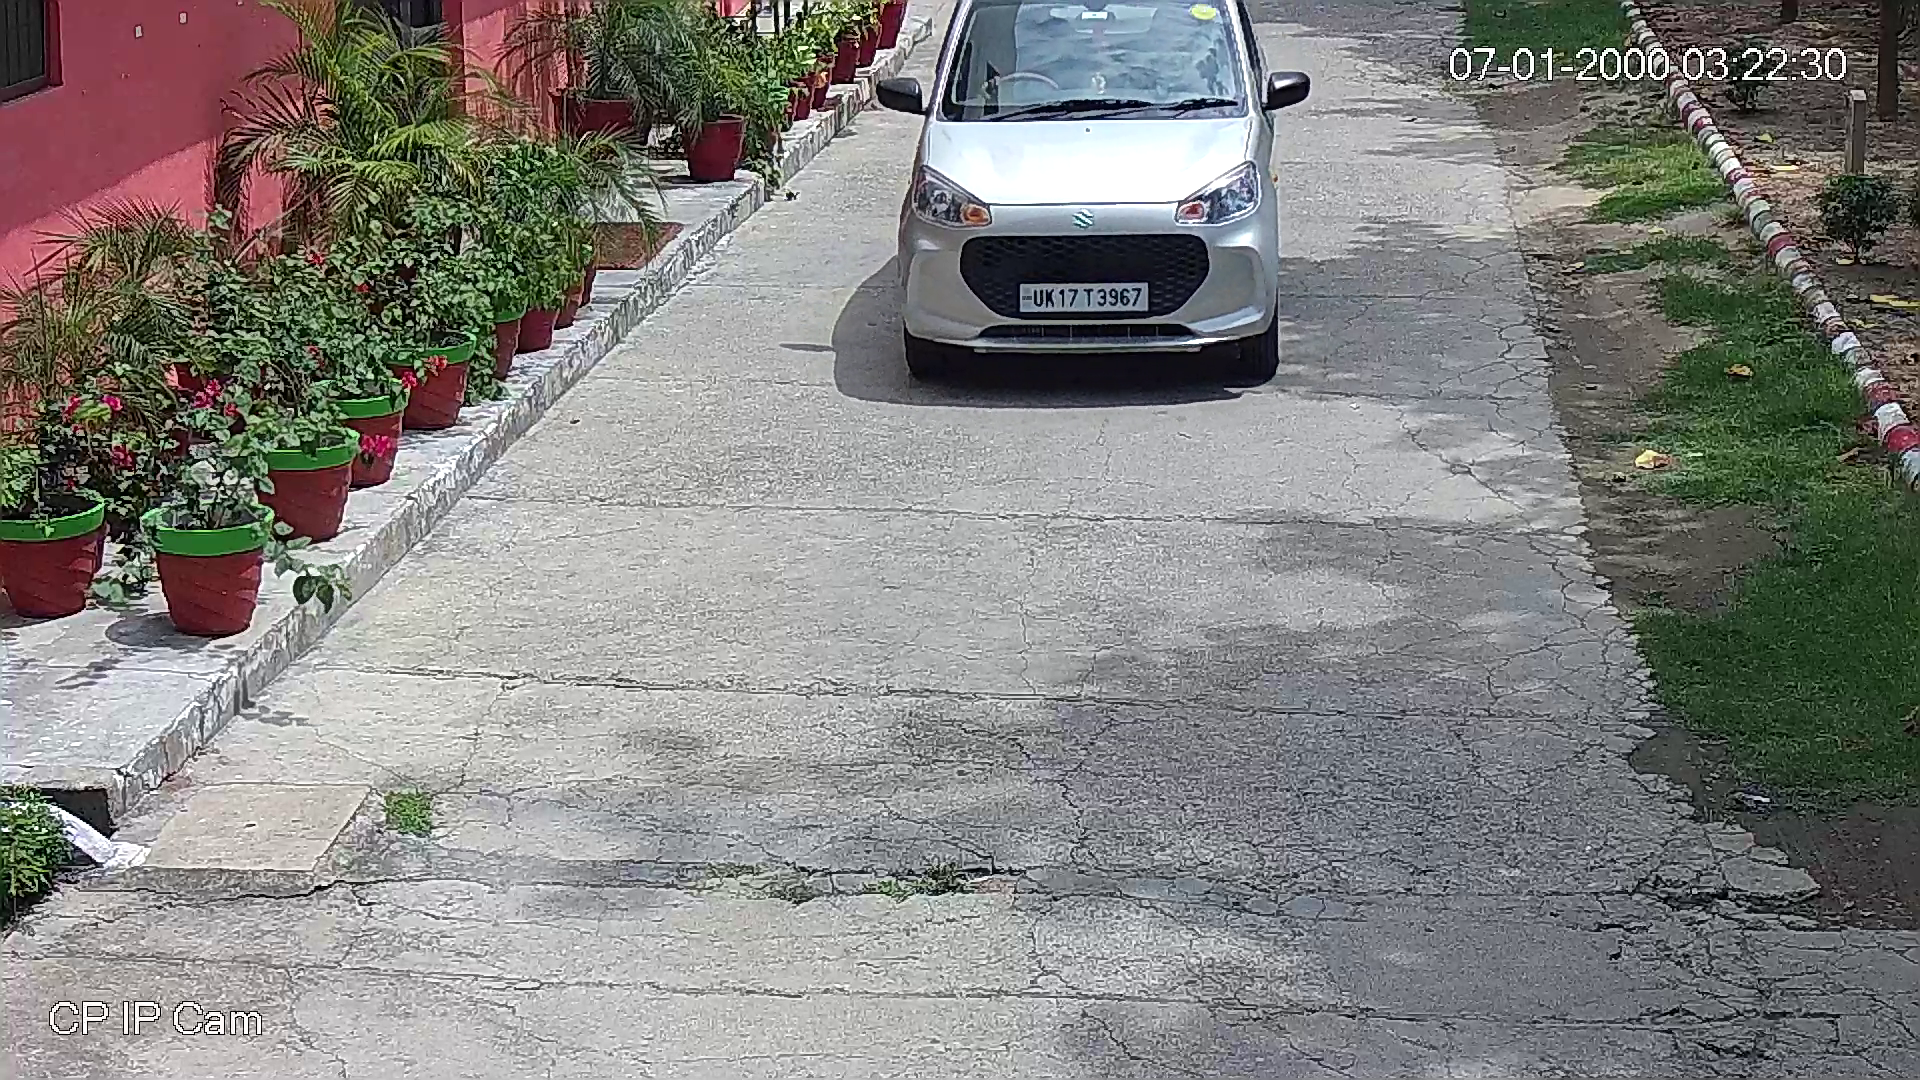plate: (1021, 278, 1152, 316)
